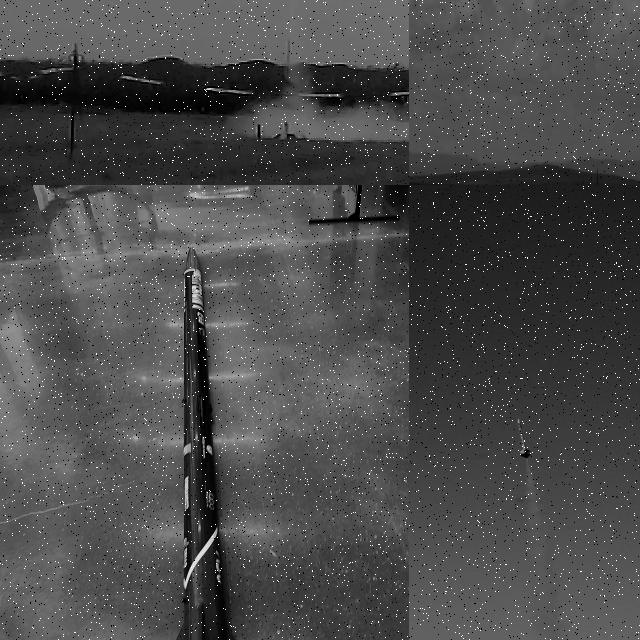Rocket: (176, 245, 236, 640), (516, 418, 532, 459), (596, 168, 600, 185)
